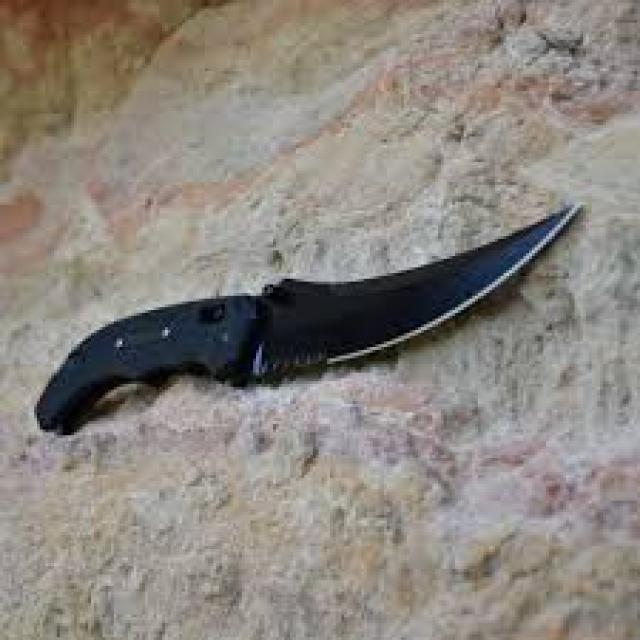knives: (29, 193, 592, 444)
